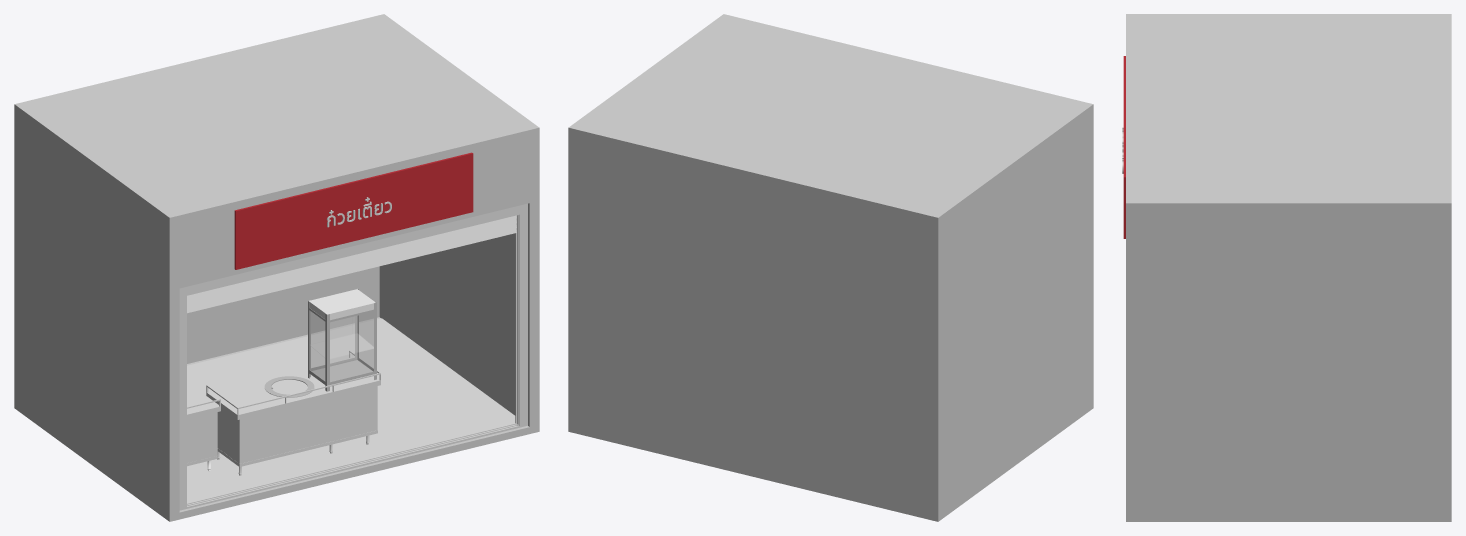
Rendered from NoodleStore.fbx.
3 renders of one model, left to right at view 1: azimuth 30°, elevation 25°; view 2: azimuth 150°, elevation 25°; view 3: azimuth 270°, elevation 25°, orthographic. The views are drawn at different scales.
Visible parts, largest first — view 1: Cube.011, Plane, Cube.014, Cube.013, Cube.001, Cube.015, Cube.003, Cube.008, Cube.012, Cube, Cube.004, Cube.006 (+3 smaller); view 2: Cube.011; view 3: Cube.011, Cube.014.
Boxes of the visible parts, x1,y1,x2,y2 form: Cube.011: (14, 14, 539, 521); Plane: (187, 318, 515, 502); Cube.014: (234, 152, 473, 269); Cube.013: (179, 203, 527, 510); Cube.001: (217, 386, 377, 463); Cube.015: (187, 215, 516, 313); Cube.003: (206, 350, 380, 419); Cube.008: (330, 312, 373, 381); Cube.012: (187, 382, 220, 471); Cube: (308, 288, 376, 391); Cube.004: (309, 289, 375, 319); Cube.006: (310, 311, 324, 380); Cube.011: (568, 14, 1093, 521); Cube.011: (1126, 14, 1451, 521); Cube.014: (1123, 56, 1125, 238).
Bounding box in the file's own units: 2045 × 1607 × 1505.
